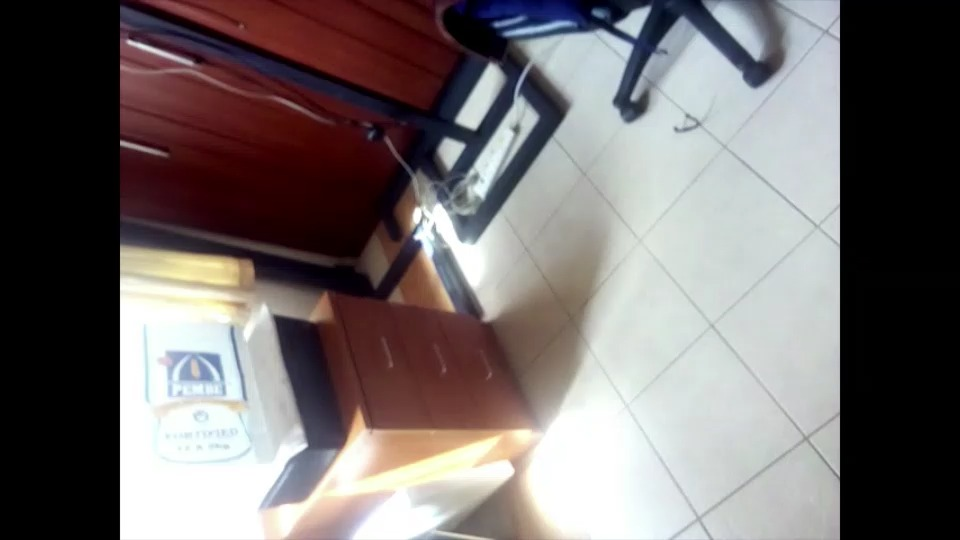wheat_flour_blue_label: (123, 320, 272, 504)
